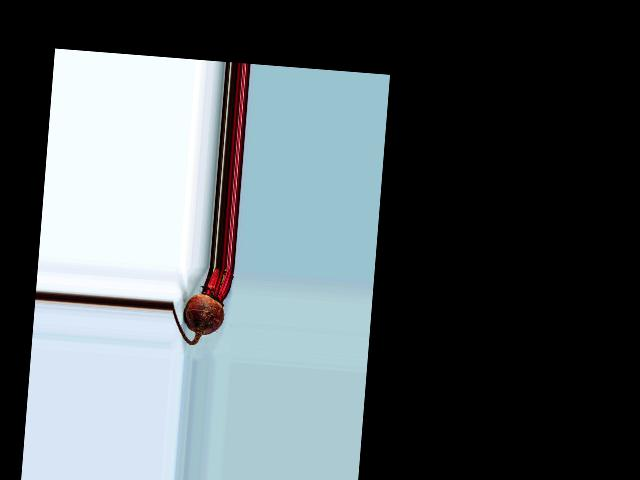beet: (170, 263, 234, 347)
